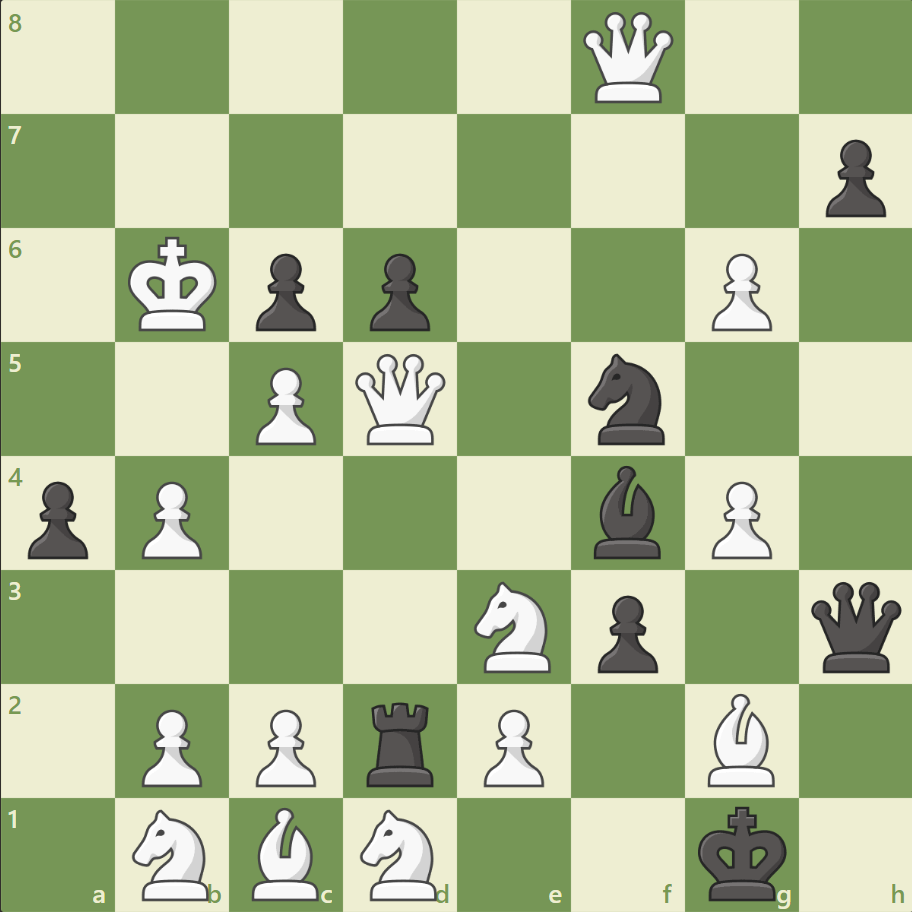B: (698, 687, 782, 790), (244, 801, 328, 904)
K: (124, 231, 224, 339)
N: (124, 802, 222, 904), (351, 802, 449, 904), (465, 575, 562, 677)
P: (701, 246, 776, 337), (247, 359, 322, 450), (133, 473, 208, 564), (701, 473, 776, 564), (133, 700, 208, 791), (247, 700, 322, 791), (474, 700, 549, 791)
Q: (351, 349, 450, 449), (578, 9, 677, 108)
b: (585, 460, 669, 563)
k: (692, 798, 792, 906)
n: (579, 348, 676, 450)
p: (247, 246, 322, 337), (20, 473, 95, 564), (815, 132, 889, 223), (361, 246, 435, 337), (588, 586, 662, 677)
q: (805, 576, 904, 676)
r: (360, 693, 442, 790)
